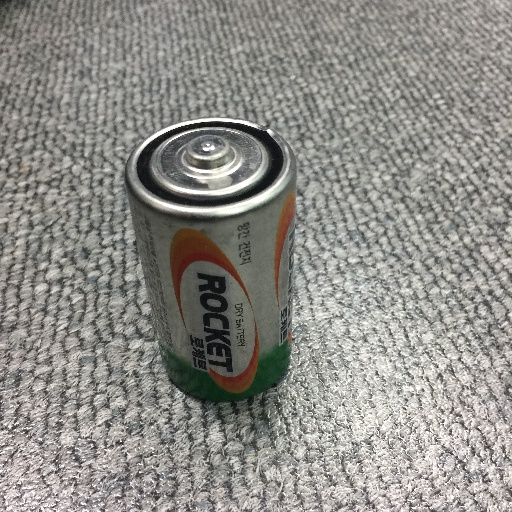Battery_0: (110, 105, 321, 410)
